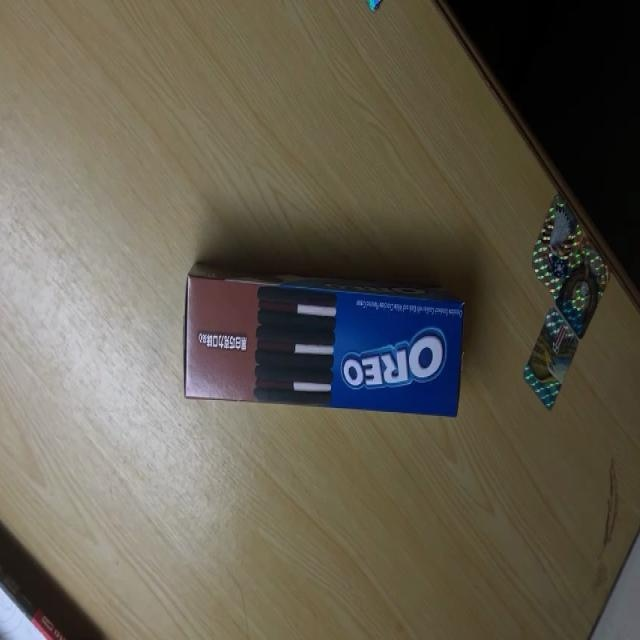Oreo: (183, 268, 468, 418)
